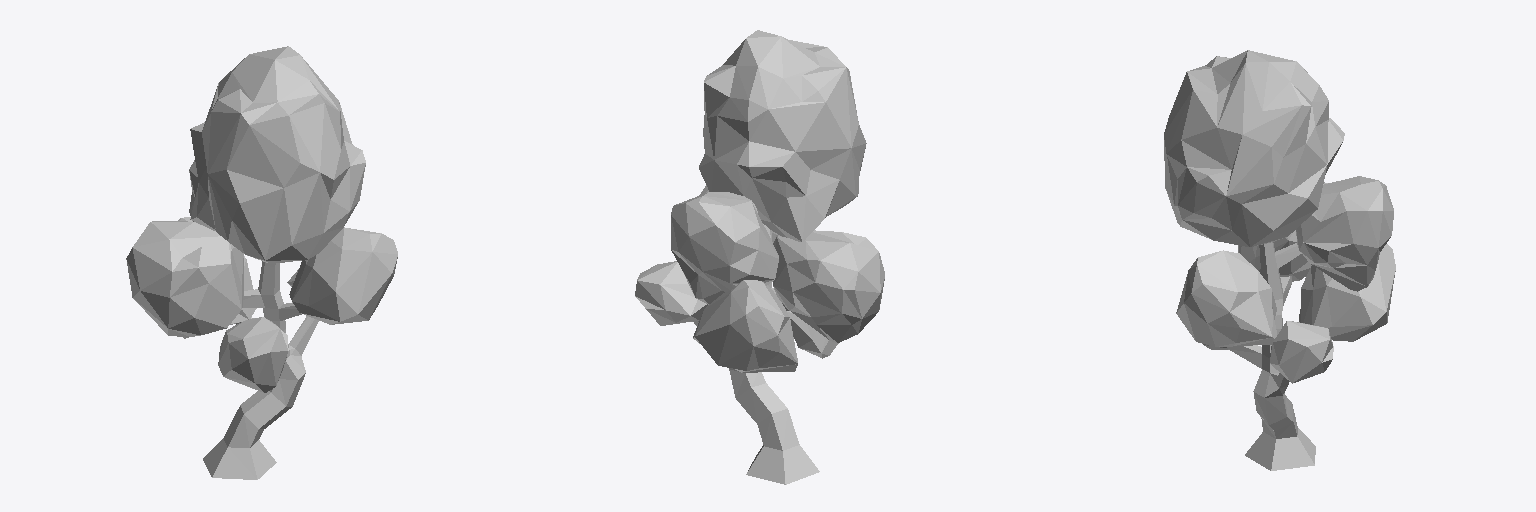
Rendered from tree05.obj.
3 views of the same model, side by side, from view 1: azimuth 30°, elevation 25°; view 2: azimuth 150°, elevation 25°; view 3: azimuth 270°, elevation 25° (orthographic).
Visible parts, largest first — view 1: SM_Env_Tree_Twisted_02_Mesh.008; view 2: SM_Env_Tree_Twisted_02_Mesh.008; view 3: SM_Env_Tree_Twisted_02_Mesh.008.
Boxes of the visible parts, <box> form: SM_Env_Tree_Twisted_02_Mesh.008: <box>126,46,397,479</box>; SM_Env_Tree_Twisted_02_Mesh.008: <box>635,30,884,484</box>; SM_Env_Tree_Twisted_02_Mesh.008: <box>1164,50,1395,470</box>.
Size of the model in its own units: 3.47 by 6.01 by 3.05.